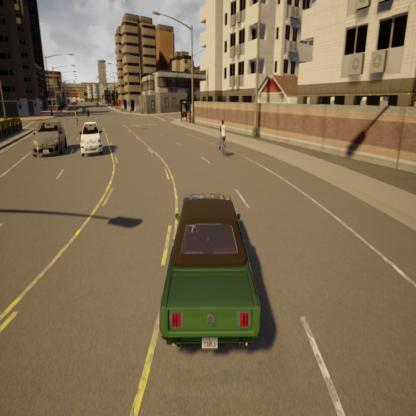Cars: (150, 184, 270, 363), (30, 118, 69, 158), (77, 119, 108, 162)
Pedestrian: (73, 106, 80, 125)
